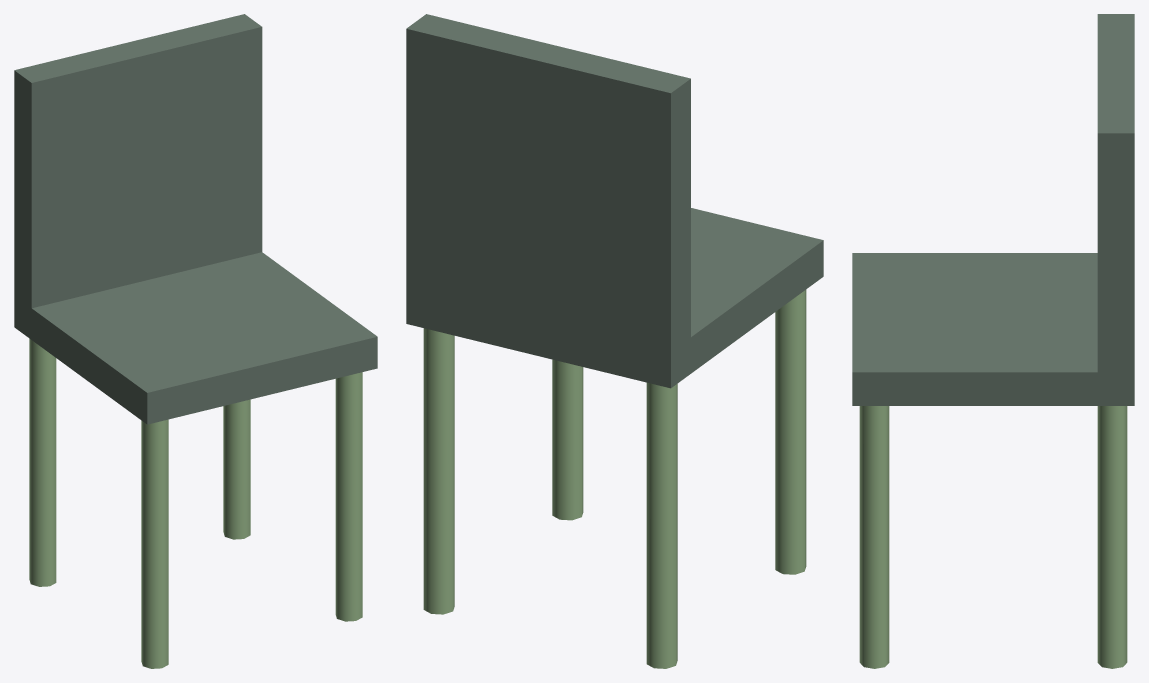
Rendered from chair.glb.
3 views of the same model, side by side, from view 1: azimuth 30°, elevation 25°; view 2: azimuth 150°, elevation 25°; view 3: azimuth 270°, elevation 25° (orthographic). The views are drawn at different scales.
Parts seen in each view (by area): view 1: Chair; view 2: Chair; view 3: Chair.
Boxes of the visible parts, x1=… form: Chair: x1=14, y1=14, x2=377, y2=668; Chair: x1=406, y1=14, x2=823, y2=668; Chair: x1=852, y1=14, x2=1134, y2=668.
Bounding box in the file's own units: 0.38 × 0.8 × 0.38.
